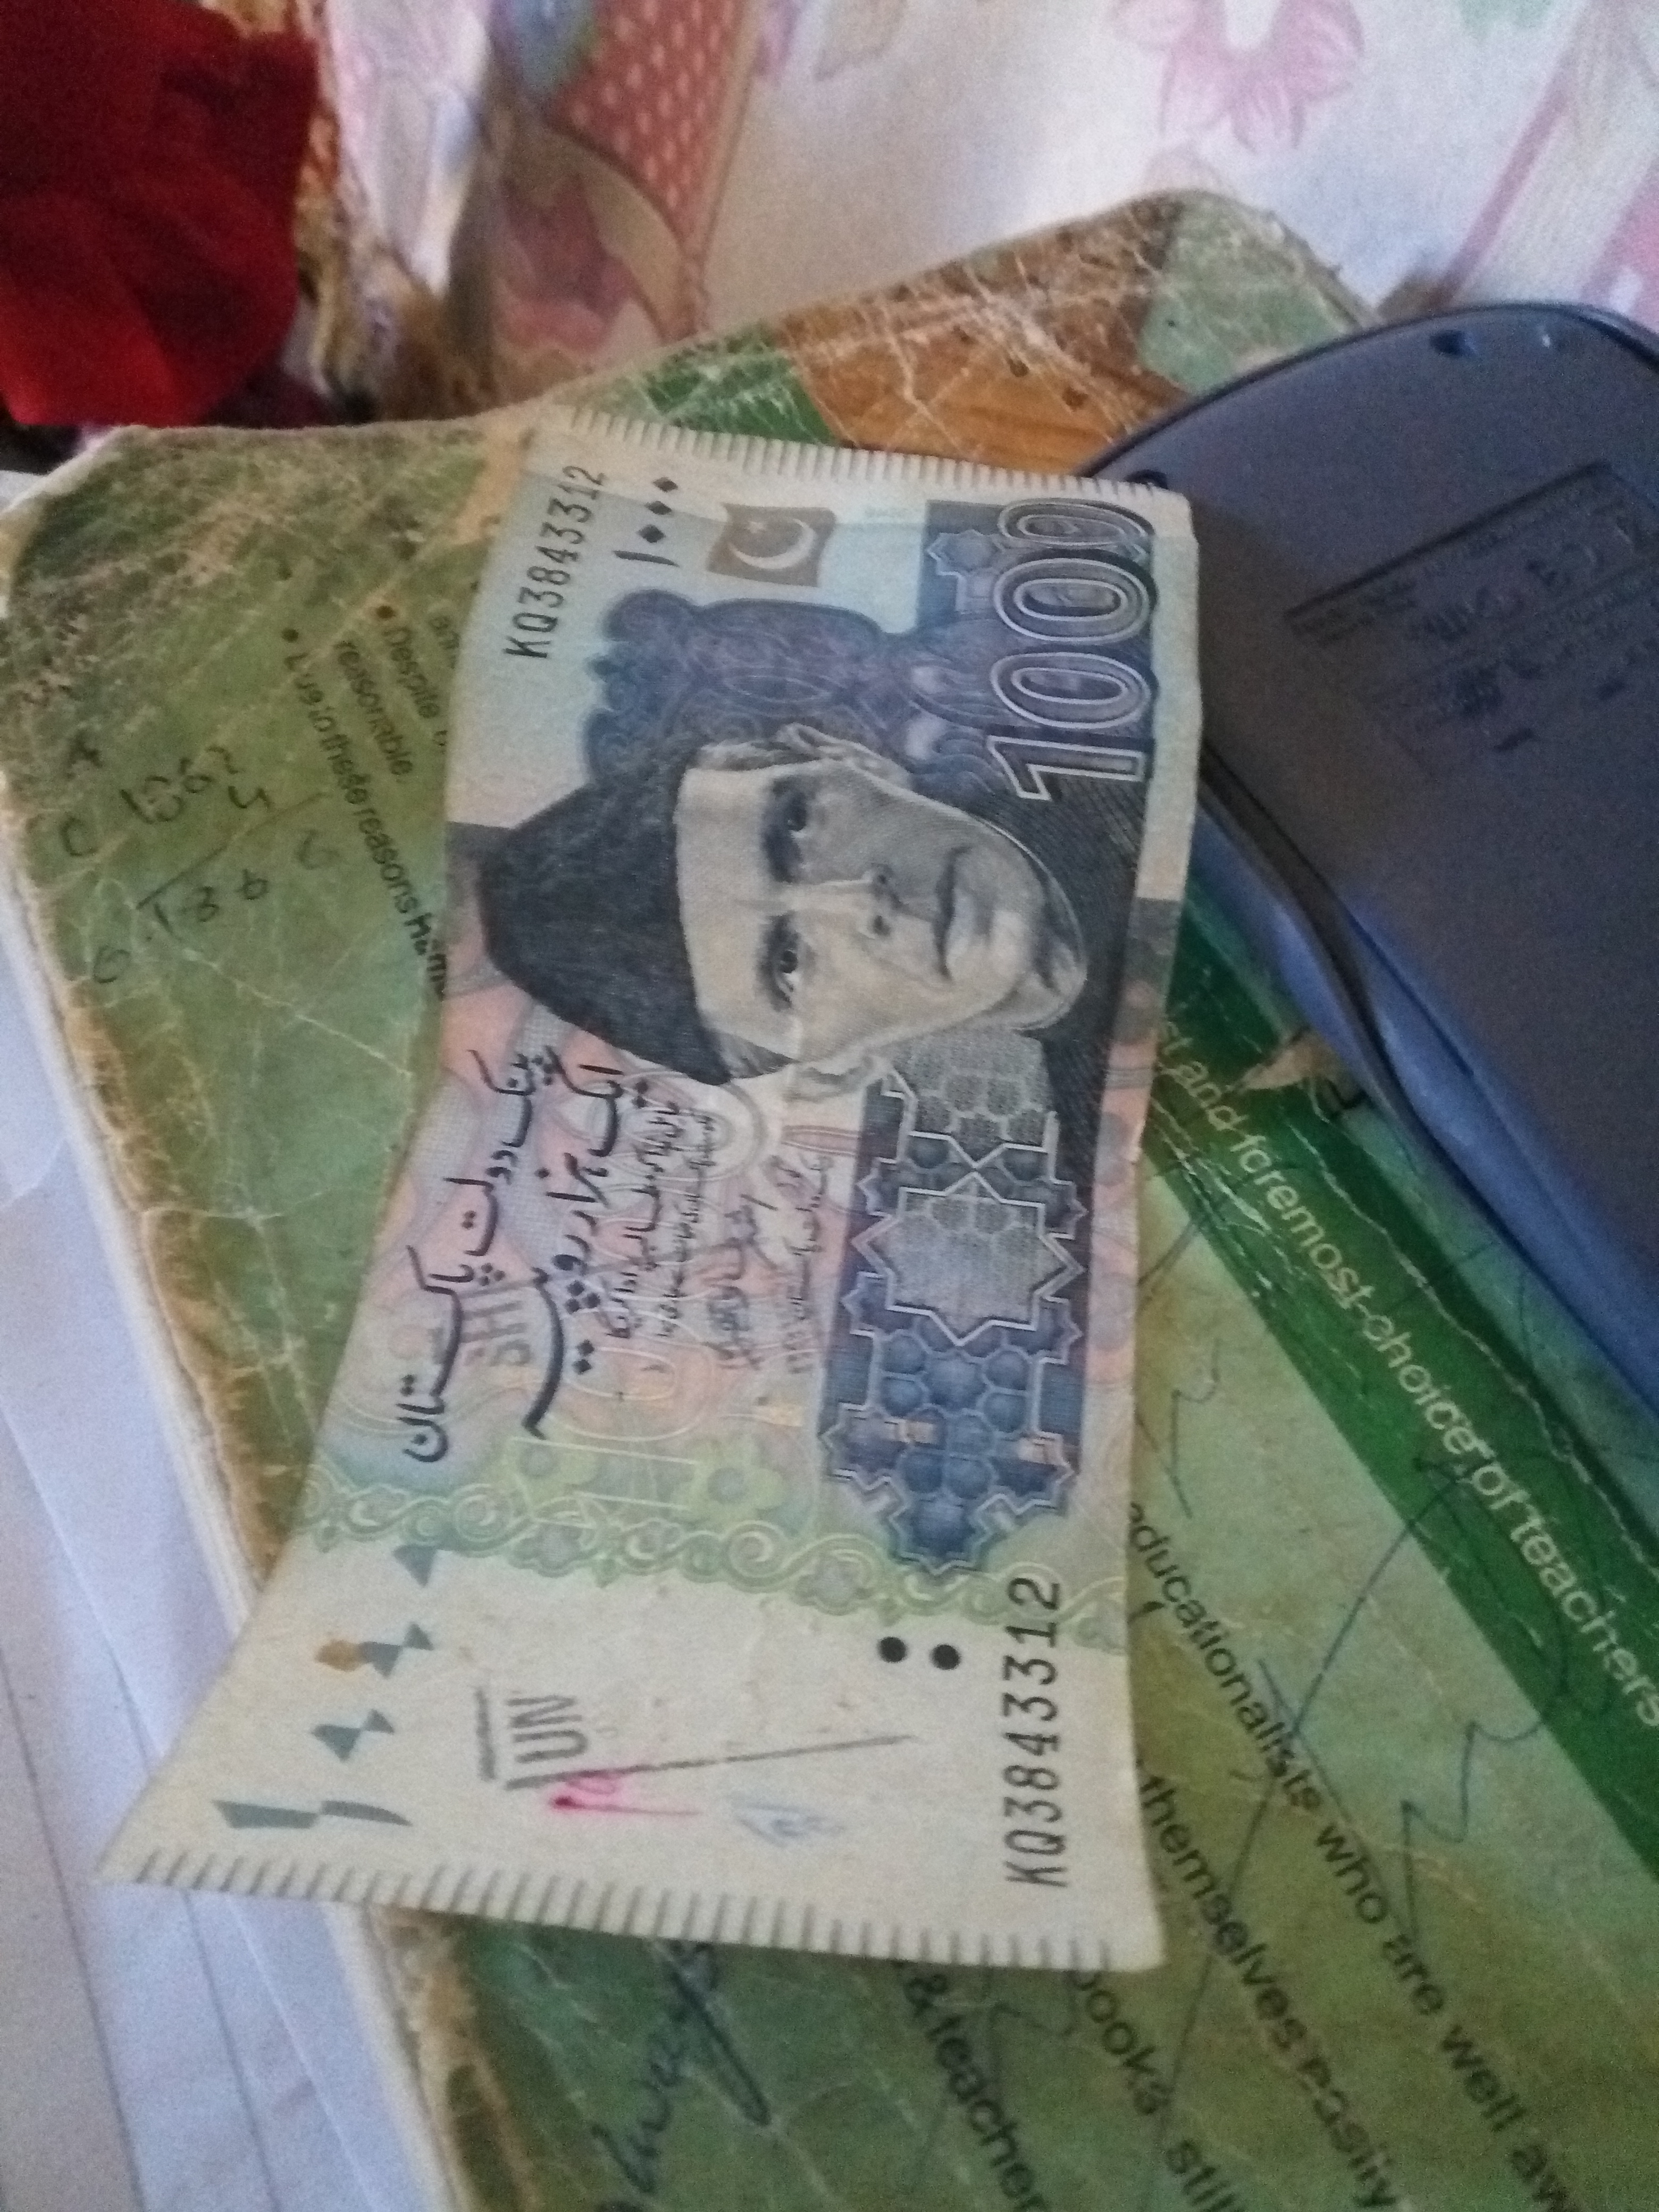1000 rupee: (66, 263, 1389, 2127)
